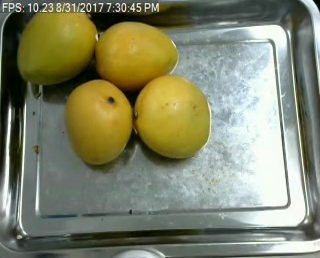Mango: (17, 4, 99, 85), (134, 73, 211, 158), (66, 77, 131, 167), (92, 22, 178, 90)
